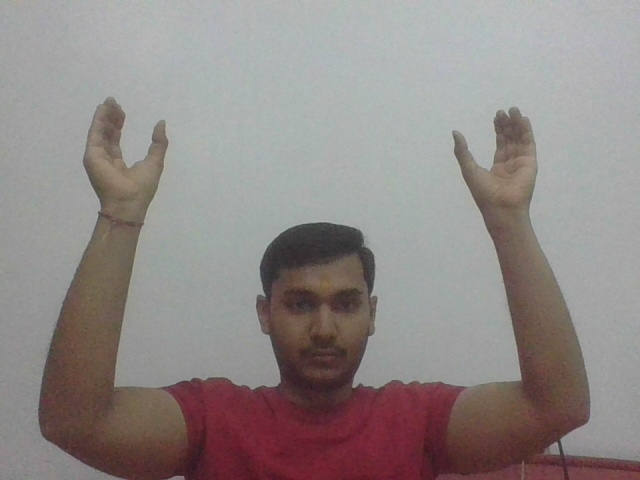U: (77, 86, 173, 205), (450, 104, 543, 216)
